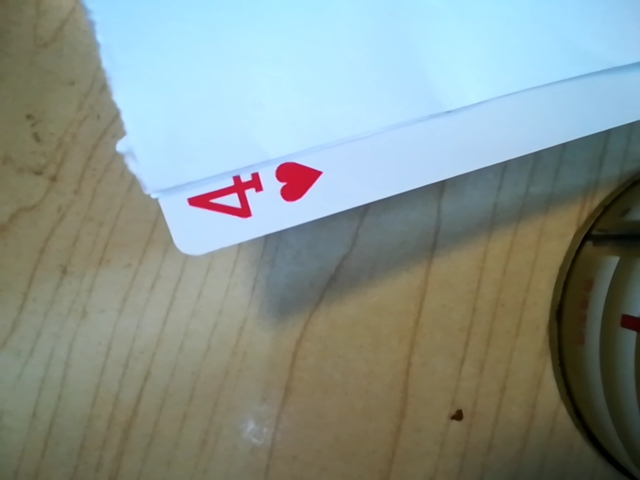hx 4: (168, 157, 325, 233)
